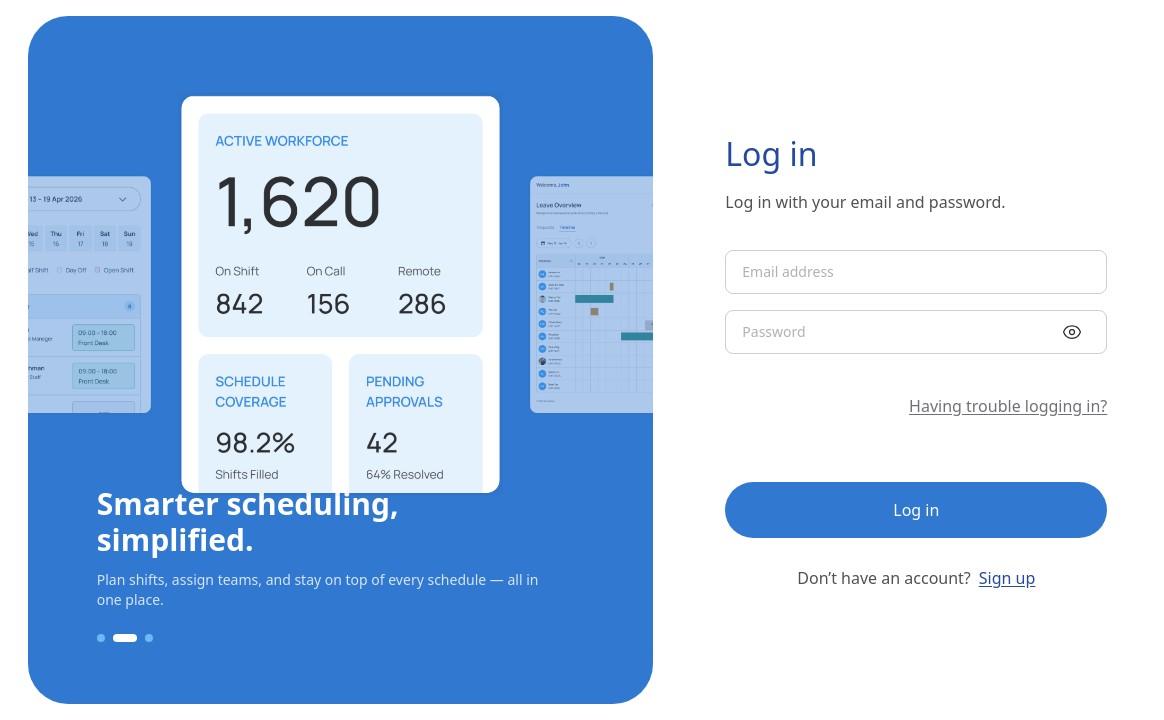
logs in with a trimmed email, safely returns via /?tab=2 and logs out
The width and height of the screenshot is (1164, 720).
Expected: the heading "Log in" is shown, [725,132,818,175]
Type " owner@acme.test " into the field labelled "Email".
click(916, 272); type(" owner@acme.test ")  # box [742,262,1090,282]
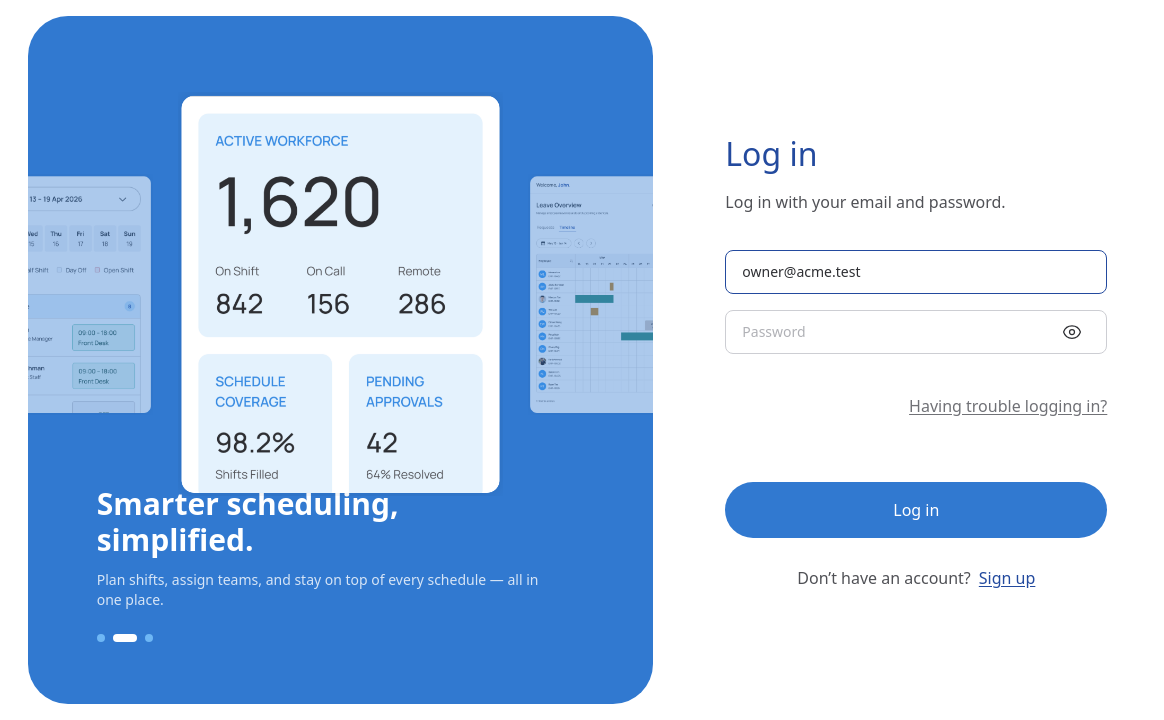
Type "Example123!" into the password field labelled "Password".
click(892, 332); type("Example123!")  # box [742,322,1042,342]
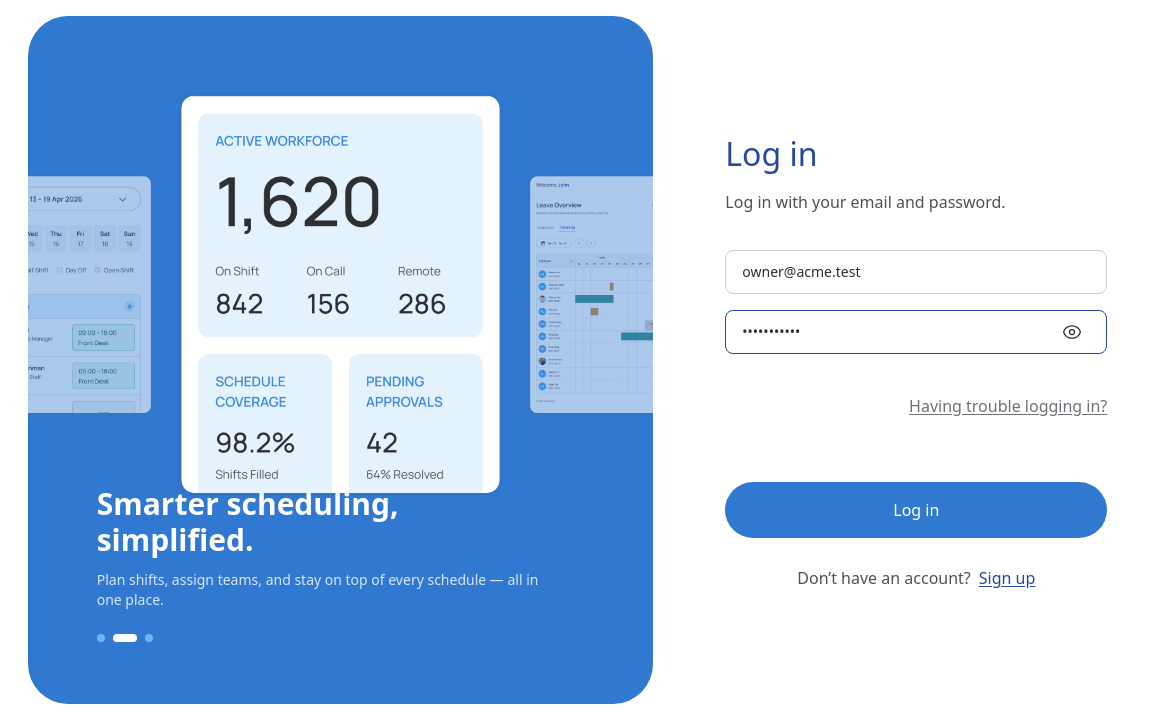
Click the button "Log in".
click(916, 510)  # box [725,482,1107,538]
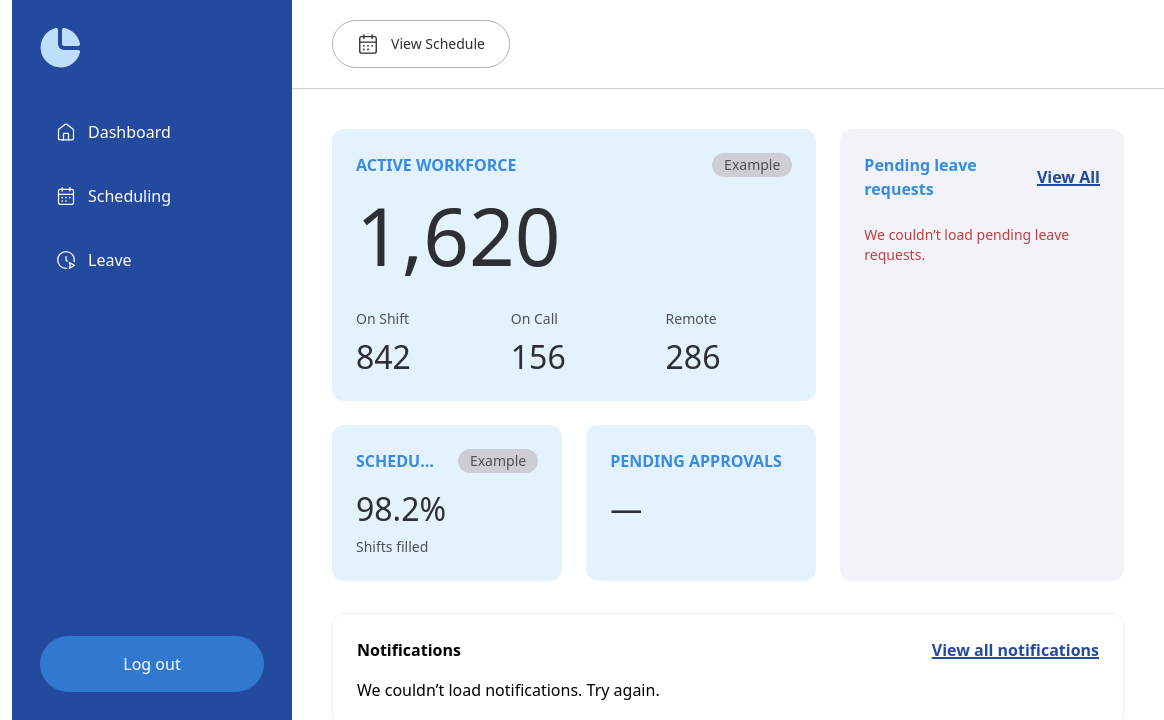
Click the button "Log out".
click(152, 664)  # box [40,636,264,692]
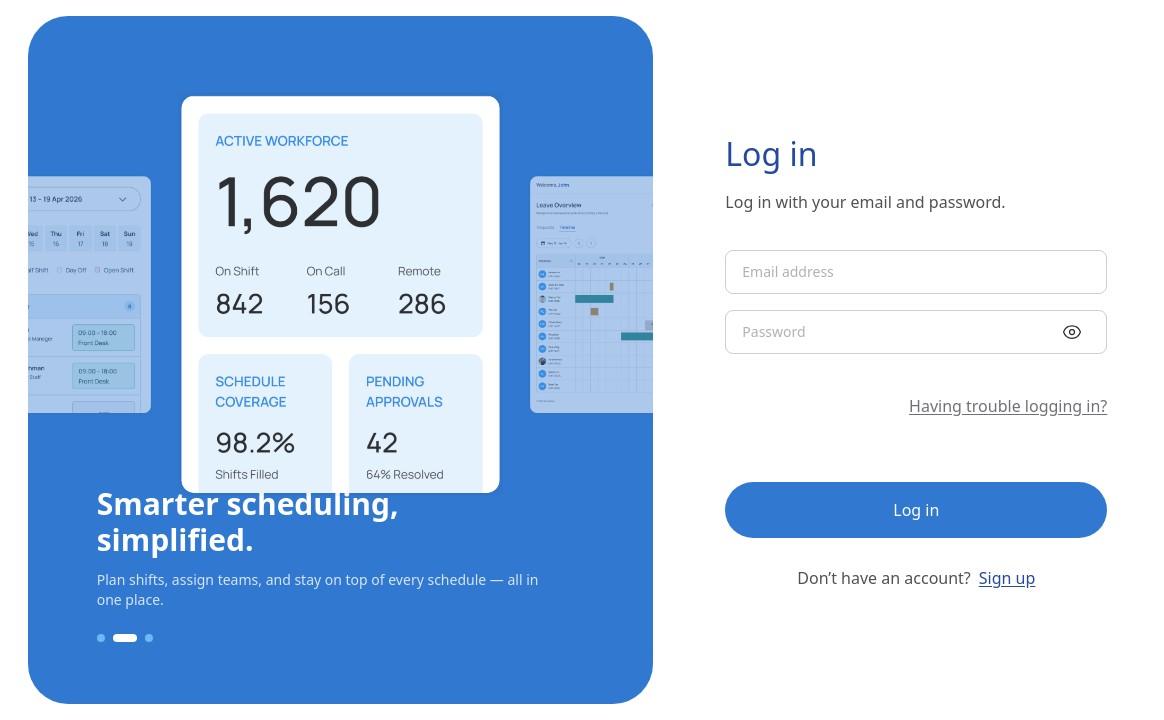
Expected: the heading "Log in" is shown, [725,132,818,175]
